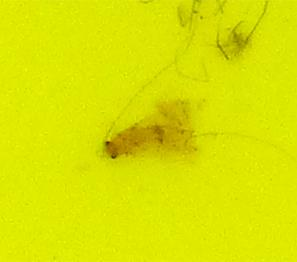Plecoptera: (100, 100, 197, 162)
